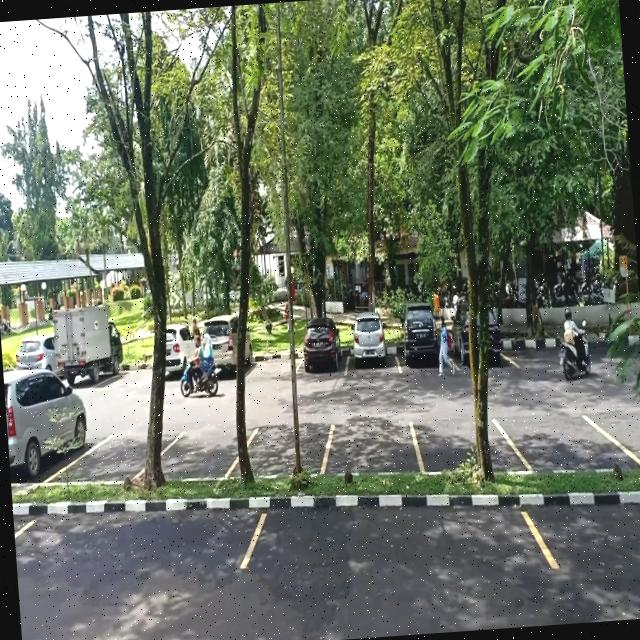empty: (244, 478, 553, 578), (13, 501, 267, 596), (497, 400, 623, 476), (411, 407, 521, 477), (324, 414, 418, 480), (246, 419, 336, 478), (160, 424, 240, 484), (78, 418, 150, 482), (245, 340, 302, 382)
occupied: (3, 362, 91, 483), (292, 324, 350, 376), (344, 322, 398, 374)
